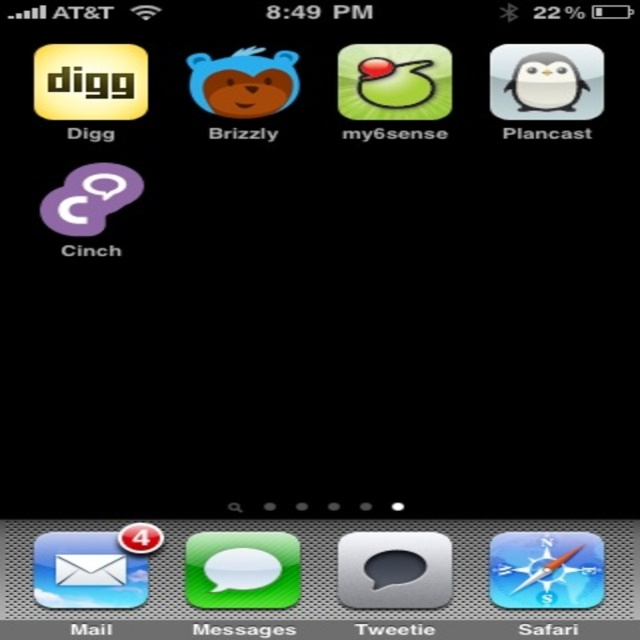Penguin: (504, 52, 590, 111)
